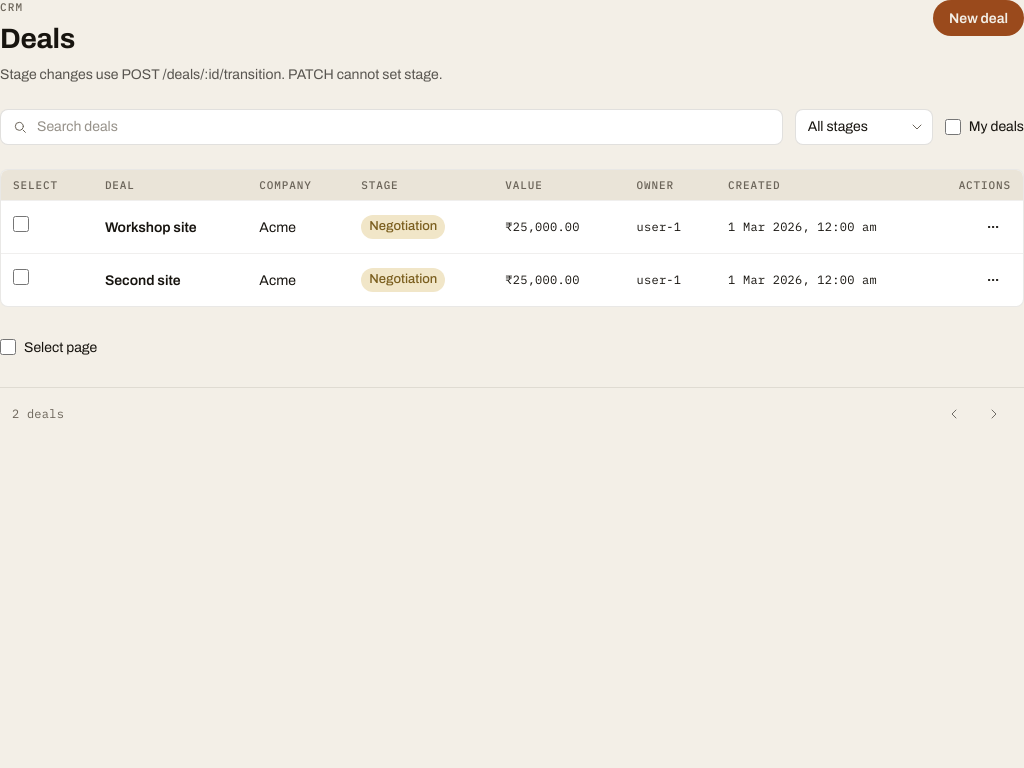
Test: Deals list › bulk-reassigns selected deals with the correct payload and clears selection
The image size is (1024, 768).
Expected: the link "Workshop site" is shown, [105,220,197,235]
Click the checkbox named "Select Workshop site" at point(21, 224), box [13,216,29,232]
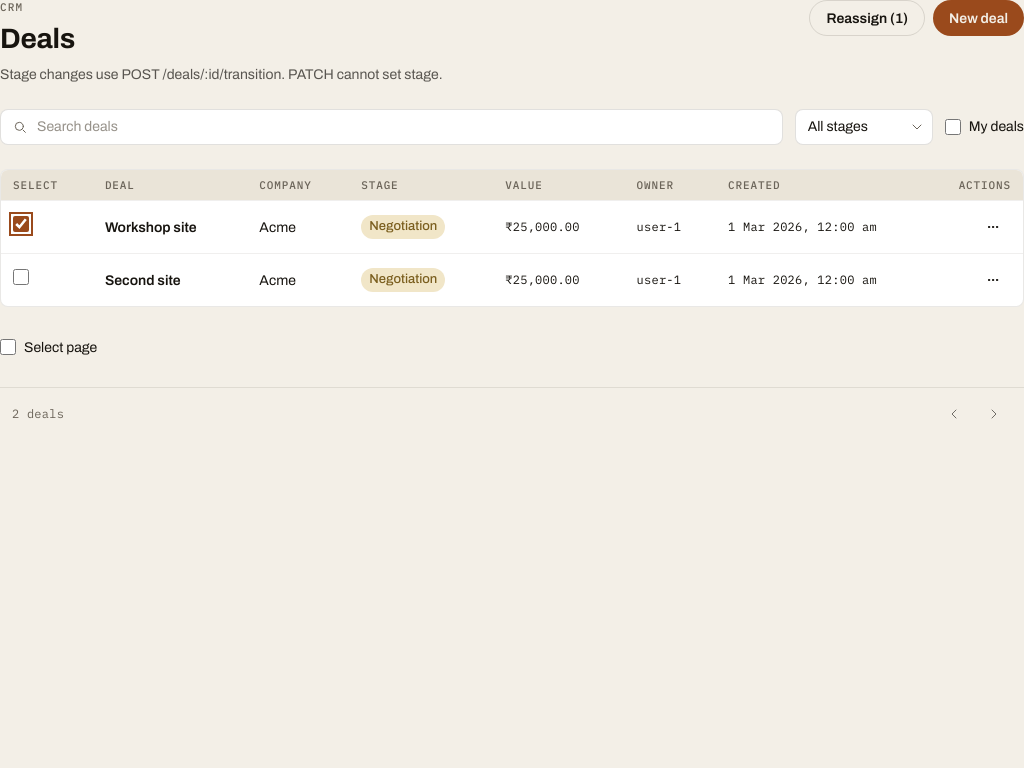
Click the checkbox named "Select Second site" at point(21, 277), box [13,269,29,285]
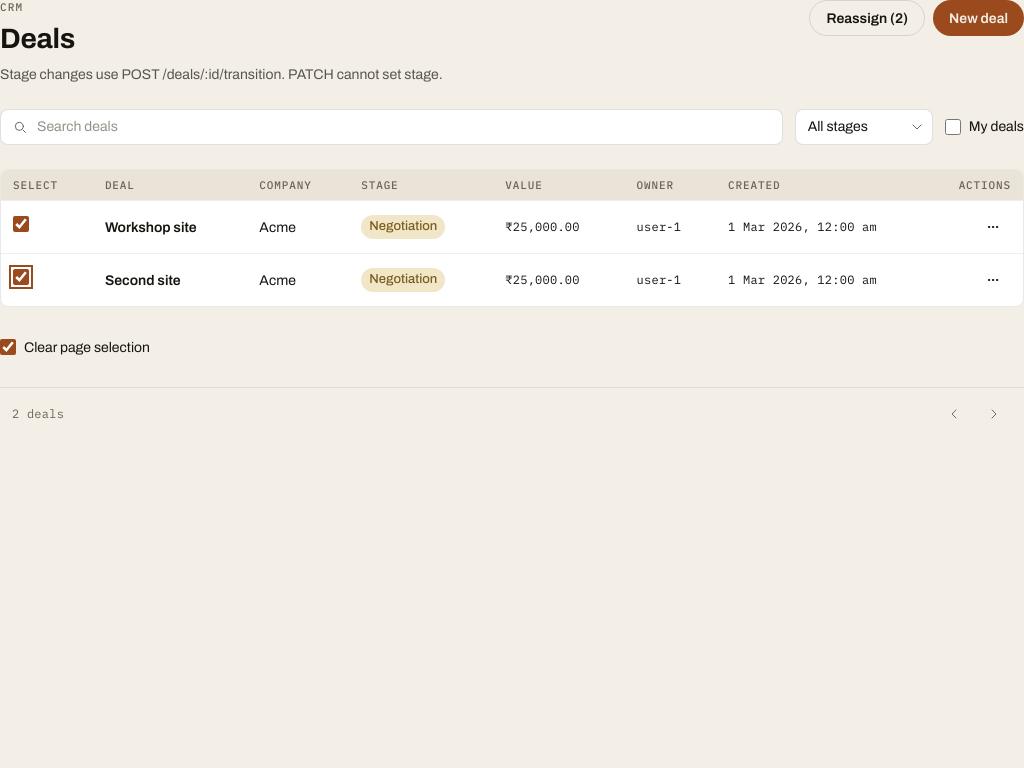
Click the button "Reassign (2)" at point(867, 18), box [810,0,925,36]
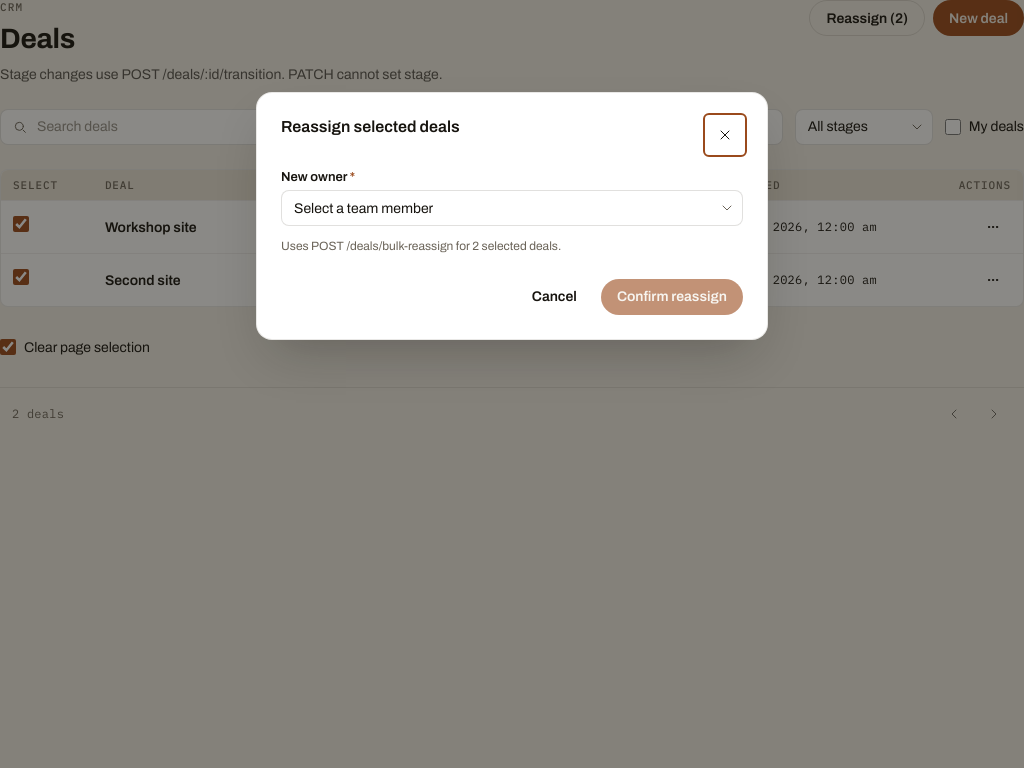
Select "Owner Two" in the dropdown labelled "New owner *" at point(512, 208), box [281,190,743,226]
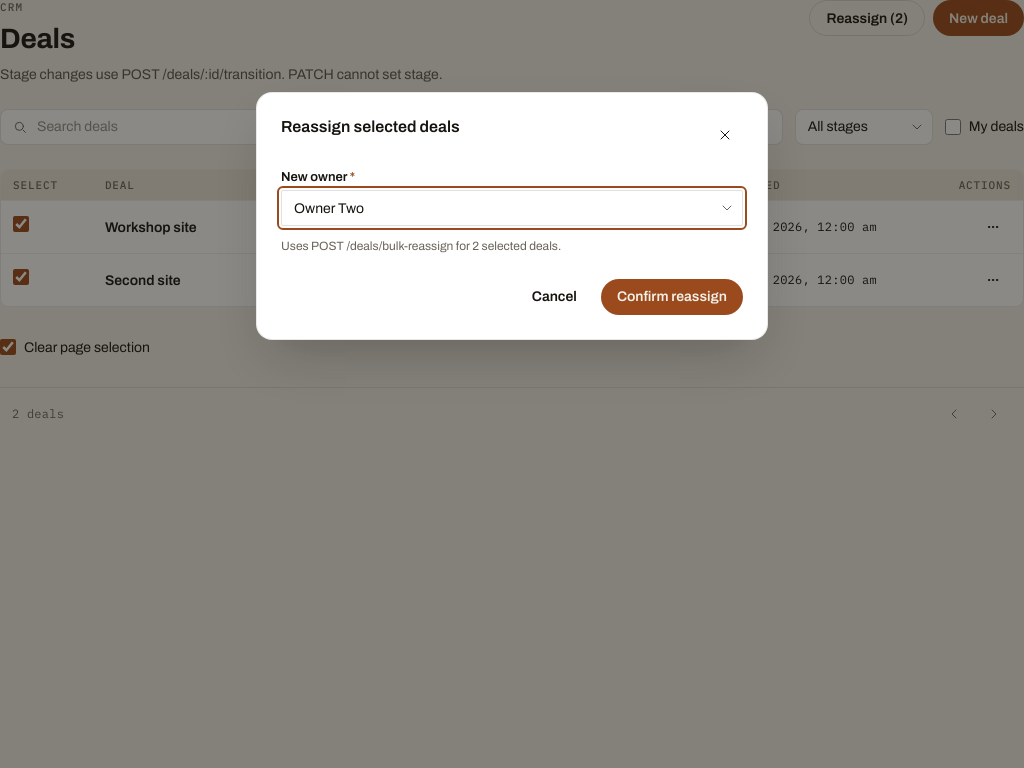
Click the button "Confirm reassign" at point(672, 297), box [601,279,743,315]
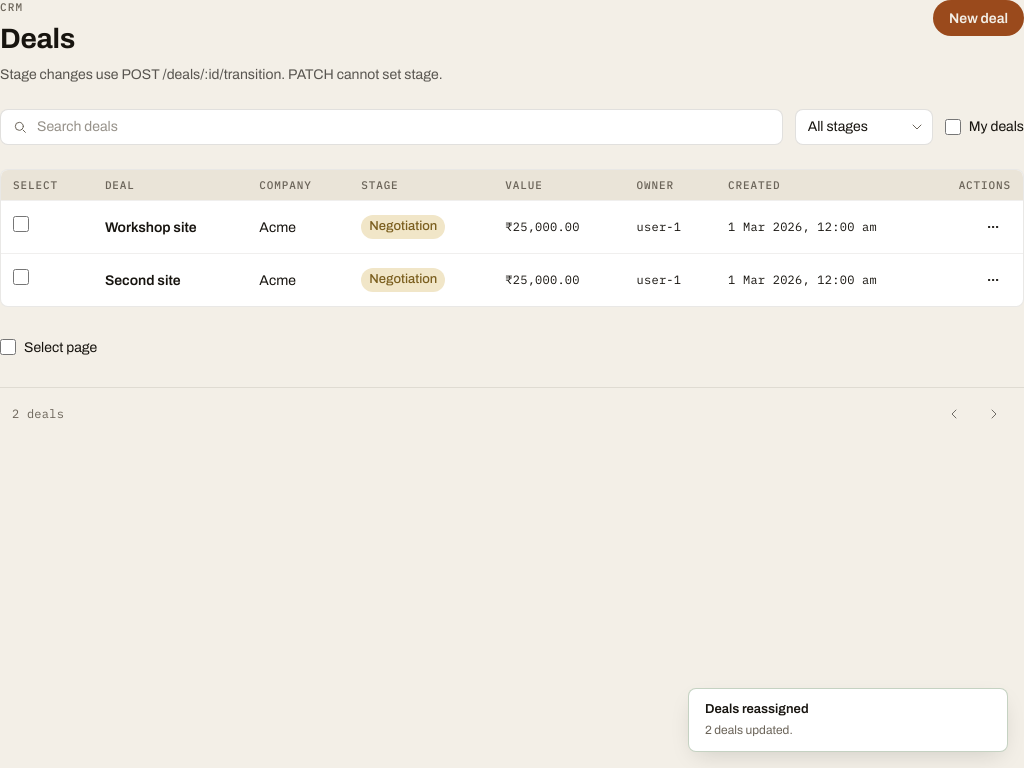
Result: the text "Deals reassigned" is shown at [705,702,809,716]
Result: the text "2 deals updated." is shown at [705,723,793,737]
Result: the button "Reassign (" is gone
